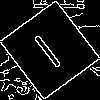I: (24, 25, 65, 71)
